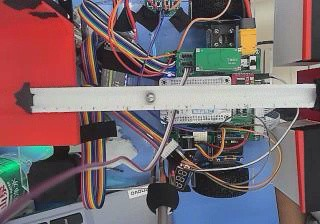ironball: (144, 91, 155, 102)
